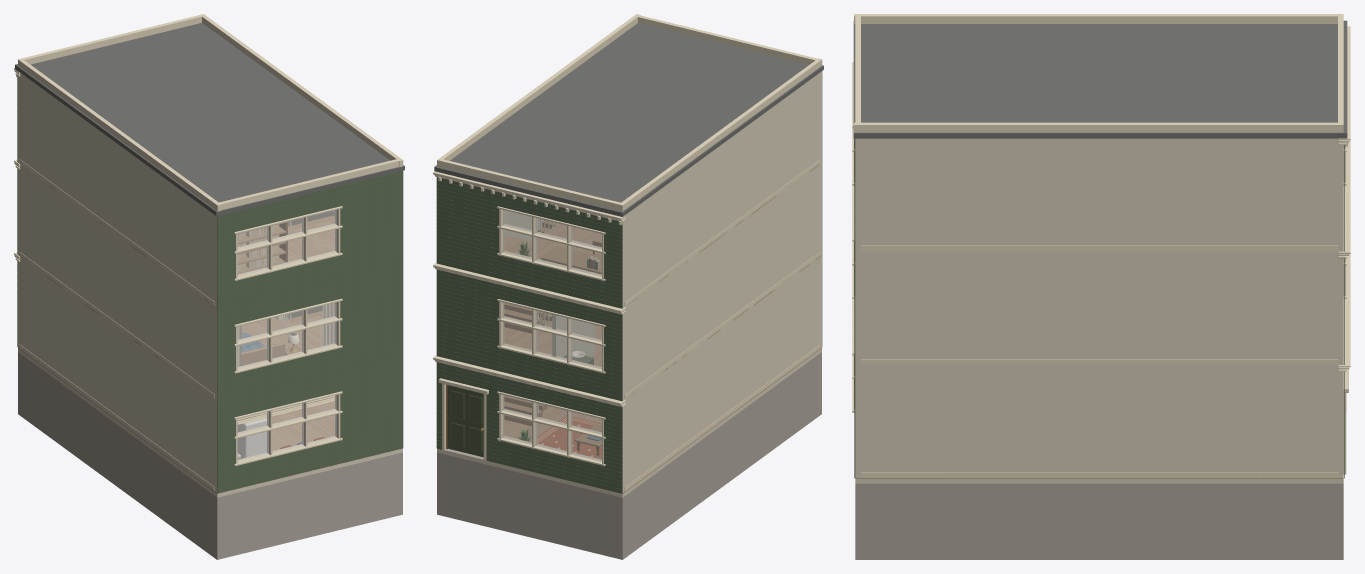
The model's file is terrace.glb.
3 views of the same model, side by side, from view 1: azimuth 30°, elevation 25°; view 2: azimuth 150°, elevation 25°; view 3: azimuth 270°, elevation 25° (orthographic). The views are drawn at different scales.
Parts seen in each view (by area): view 1: terrace-roof - membrane-roof@777874, foundation - cast-stone@b9b2a7, ground-storey - lime-plaster@e3dbc6, bedroom-storey - lime-plaster@e3dbc6, workroom-storey - lime-plaster@e3dbc6, bedroom-storey - painted-clapboard@68785e, ground-storey - painted-clapboard@68785e, workroom-storey - painted-clapboard@68785e, terrace-roof - painted-white@ece1c8, bedroom-storey - glass-door@ffffff, workroom-storey - glass-door@ffffff, ground-storey - glass-door@ffffff (+13 smaller); view 2: terrace-roof - membrane-roof@777874, foundation - cast-stone@b9b2a7, ground-storey - lime-plaster@e3dbc6, bedroom-storey - lime-plaster@e3dbc6, workroom-storey - lime-plaster@e3dbc6, bedroom-storey - painted-clapboard@68785e, workroom-storey - painted-clapboard@68785e, ground-storey - painted-clapboard@68785e, terrace-roof - painted-white@ece1c8, workroom-storey - painted-white@ece1c8, ground-storey - painted-white@ece1c8, bedroom-storey - painted-white@ece1c8 (+14 smaller); view 3: ground-storey - lime-plaster@e3dbc6, bedroom-storey - lime-plaster@e3dbc6, workroom-storey - lime-plaster@e3dbc6, terrace-roof - membrane-roof@777874, foundation - cast-stone@b9b2a7, terrace-roof - painted-white@ece1c8, ground-storey - painted-white@ece1c8, workroom-storey - painted-white@ece1c8, bedroom-storey - painted-white@ece1c8.
Boxes of the visible parts, bbox=[...] form: terrace-roof - membrane-roof@777874: bbox=[15, 23, 404, 215]; foundation - cast-stone@b9b2a7: bbox=[18, 352, 402, 559]; ground-storey - lime-plaster@e3dbc6: bbox=[18, 255, 402, 497]; bedroom-storey - lime-plaster@e3dbc6: bbox=[18, 163, 334, 401]; workroom-storey - lime-plaster@e3dbc6: bbox=[18, 73, 334, 310]; bedroom-storey - painted-clapboard@68785e: bbox=[17, 162, 403, 400]; ground-storey - painted-clapboard@68785e: bbox=[17, 261, 403, 493]; workroom-storey - painted-clapboard@68785e: bbox=[17, 78, 403, 308]; terrace-roof - painted-white@ece1c8: bbox=[18, 14, 403, 211]; bedroom-storey - glass-door@ffffff: bbox=[238, 302, 336, 368]; workroom-storey - glass-door@ffffff: bbox=[238, 210, 336, 275]; ground-storey - glass-door@ffffff: bbox=[238, 395, 336, 461]; terrace-roof - membrane-roof@777874: bbox=[434, 23, 823, 216]; foundation - cast-stone@b9b2a7: bbox=[437, 352, 821, 559]; ground-storey - lime-plaster@e3dbc6: bbox=[437, 255, 821, 497]; bedroom-storey - lime-plaster@e3dbc6: bbox=[504, 162, 821, 402]; workroom-storey - lime-plaster@e3dbc6: bbox=[504, 71, 821, 308]; bedroom-storey - painted-clapboard@68785e: bbox=[436, 162, 822, 400]; workroom-storey - painted-clapboard@68785e: bbox=[436, 71, 822, 308]; ground-storey - painted-clapboard@68785e: bbox=[436, 255, 822, 493]; terrace-roof - painted-white@ece1c8: bbox=[437, 14, 822, 211]; workroom-storey - painted-white@ece1c8: bbox=[433, 159, 819, 306]; ground-storey - painted-white@ece1c8: bbox=[433, 345, 819, 491]; bedroom-storey - painted-white@ece1c8: bbox=[433, 252, 819, 398]; ground-storey - lime-plaster@e3dbc6: bbox=[855, 364, 1343, 483]; bedroom-storey - lime-plaster@e3dbc6: bbox=[855, 251, 1343, 370]; workroom-storey - lime-plaster@e3dbc6: bbox=[855, 138, 1343, 256]; terrace-roof - membrane-roof@777874: bbox=[853, 20, 1347, 138]; foundation - cast-stone@b9b2a7: bbox=[855, 483, 1343, 559]; terrace-roof - painted-white@ece1c8: bbox=[854, 14, 1343, 132]; ground-storey - painted-white@ece1c8: bbox=[852, 254, 1350, 478]; workroom-storey - painted-white@ece1c8: bbox=[852, 26, 1350, 251]; bedroom-storey - painted-white@ece1c8: bbox=[852, 140, 1350, 364].
Bounding box in the file's own units: 7.1 × 12.77 × 13.27.
